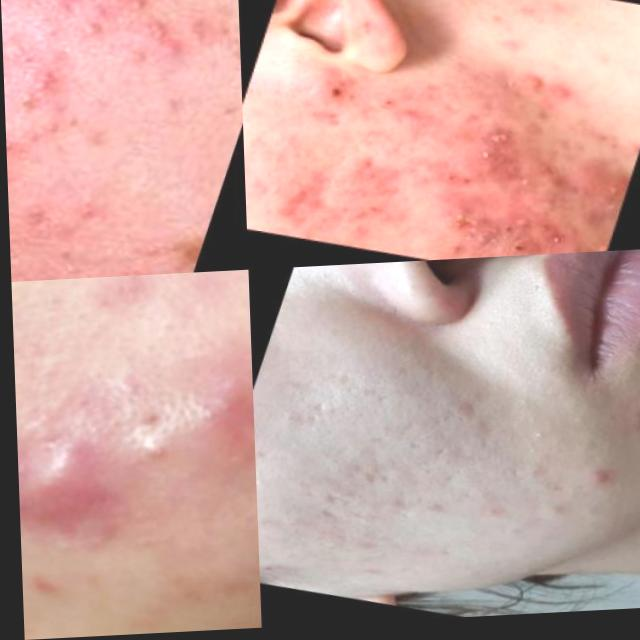8: (562, 459, 629, 507), (615, 413, 640, 452)
9: (114, 421, 184, 507)
blackheads: (164, 352, 252, 493), (437, 213, 502, 264), (259, 186, 316, 233)
pustules: (12, 407, 143, 550), (555, 159, 635, 227), (508, 76, 554, 104)
